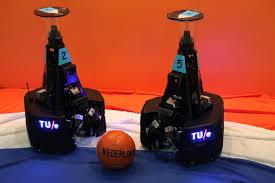robot: (139, 8, 226, 165), (21, 4, 107, 158)
